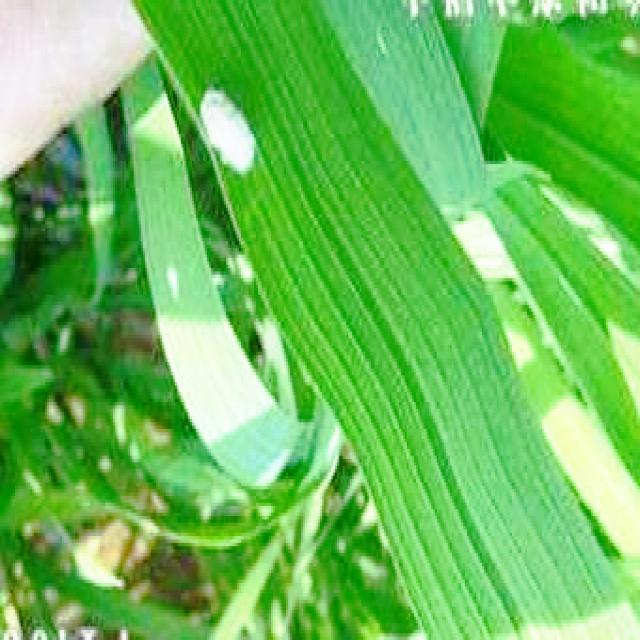whorl-maggot: (194, 72, 264, 180)
